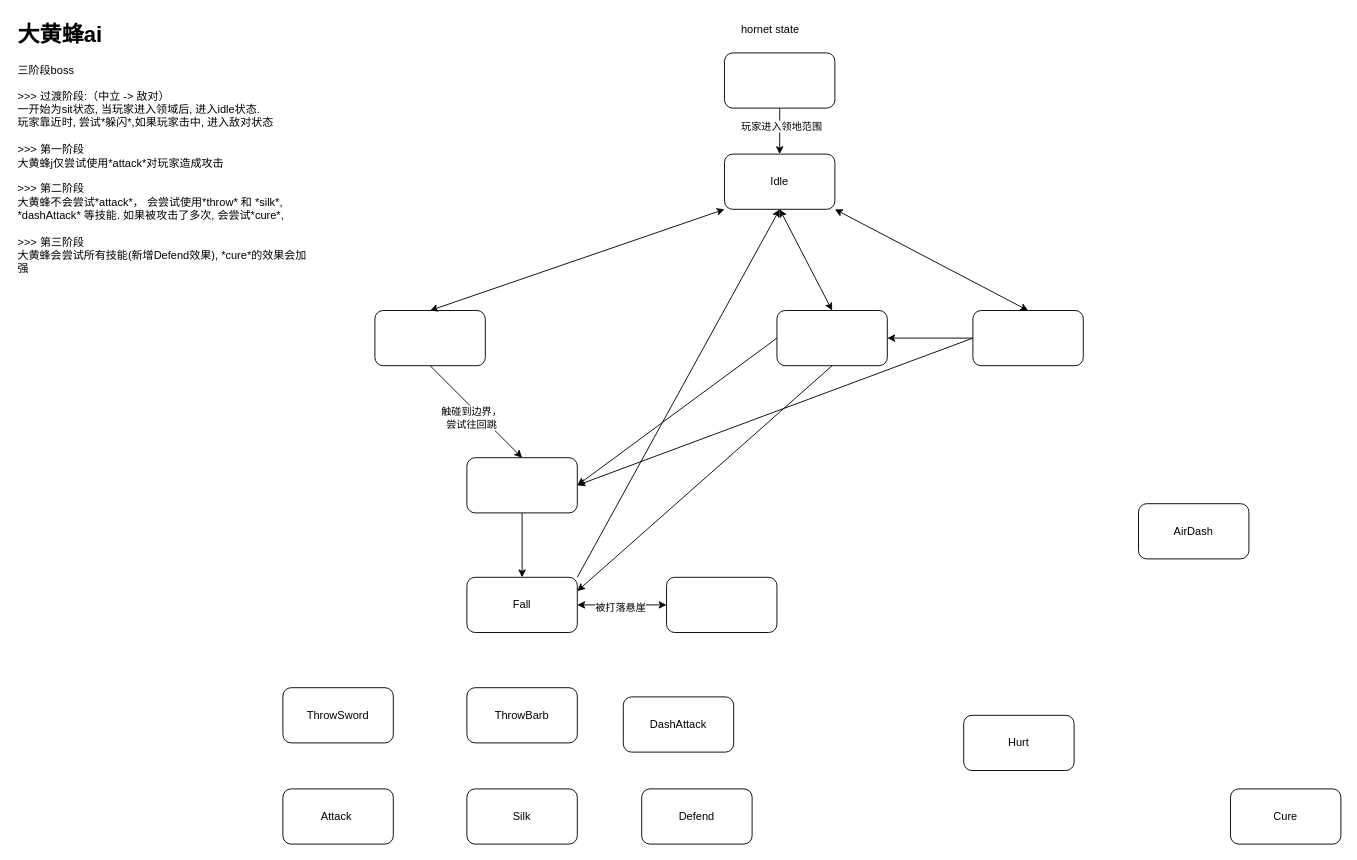
Some shapes in this 1357 by 860 pixel diagram are drawn without their labels. Each missing label, with the box of its shape:
Dash: (776, 310, 887, 366)
Evade: (374, 310, 485, 366)
J ump: (466, 457, 577, 513)
RushJ ump: (666, 576, 777, 632)
Sit: (724, 52, 835, 108)
Walk: (972, 310, 1083, 366)
